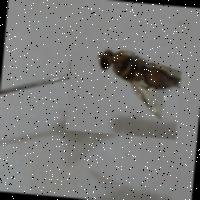Oriental-fruit-fly: (65, 38, 184, 140)
